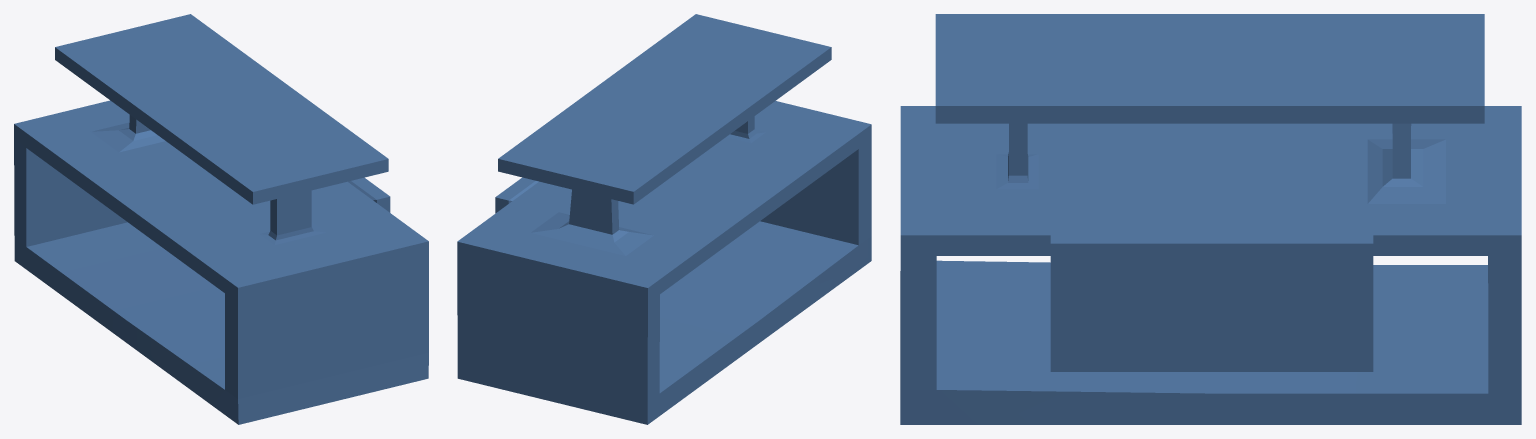
File: tv_stand.fbx
3 views of the same model, side by side, from view 1: azimuth 30°, elevation 25°; view 2: azimuth 150°, elevation 25°; view 3: azimuth 270°, elevation 25° (orthographic). The views are drawn at different scales.
Parts seen in each view (by area): view 1: shelf; view 2: shelf; view 3: shelf.
Part boxes in pixels (x1,y1,x2,y2): shelf: [14, 14, 428, 424]; shelf: [457, 14, 871, 424]; shelf: [900, 14, 1521, 424].
Bounding box in the file's own units: 179 × 180 × 337.
